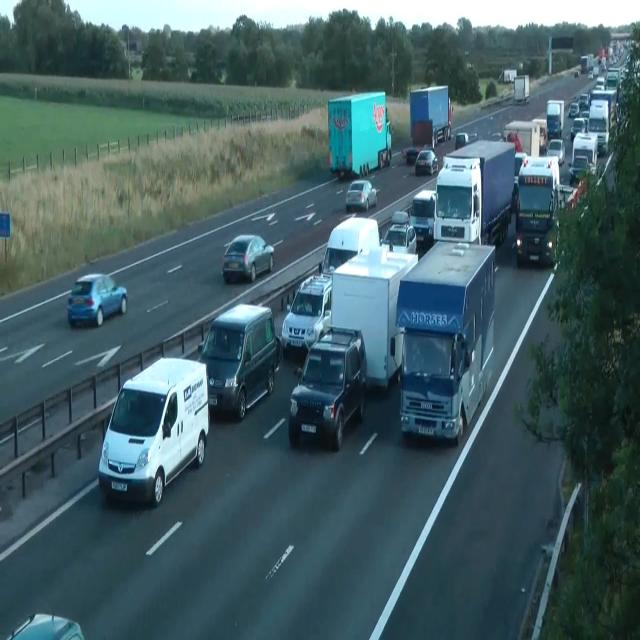bus: (66, 273, 128, 327), (222, 234, 274, 284), (6, 613, 84, 639), (345, 180, 379, 212), (568, 154, 590, 186), (414, 149, 438, 175), (545, 139, 565, 165), (570, 116, 587, 142), (456, 132, 478, 150), (400, 146, 420, 164), (390, 210, 410, 226), (568, 101, 580, 118), (578, 94, 588, 108), (579, 109, 589, 121), (596, 76, 604, 89), (587, 71, 593, 79)
jeep: (98, 356, 210, 506), (288, 324, 368, 450), (196, 302, 280, 420), (281, 273, 331, 355), (318, 214, 380, 279), (568, 132, 598, 186), (381, 210, 417, 254), (408, 188, 436, 242)
minibus: (394, 240, 496, 445), (330, 246, 418, 391), (433, 139, 515, 246), (328, 90, 392, 178), (514, 154, 560, 266), (410, 84, 452, 148), (503, 119, 548, 158), (587, 99, 609, 154), (546, 98, 564, 138), (514, 74, 530, 104), (498, 68, 516, 84), (580, 53, 593, 73)
